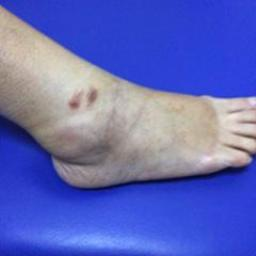Lateral View -Right Foot-: (8, 50, 255, 208)
